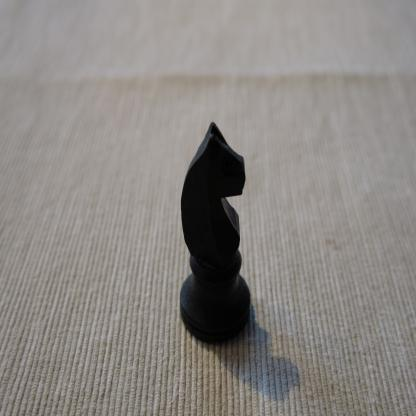black-knight: (179, 119, 252, 345)
